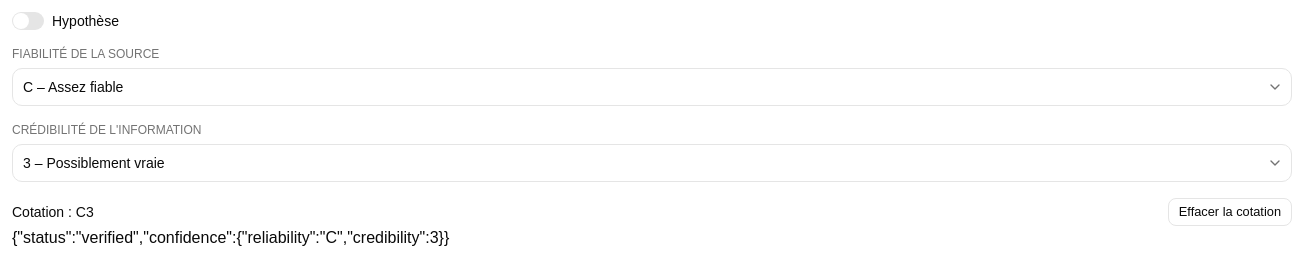
Scenario: AssessmentFields › clears the grade
Step 1. Click the button "Effacer la cotation" → click(1230, 212), box [1168, 198, 1292, 226]
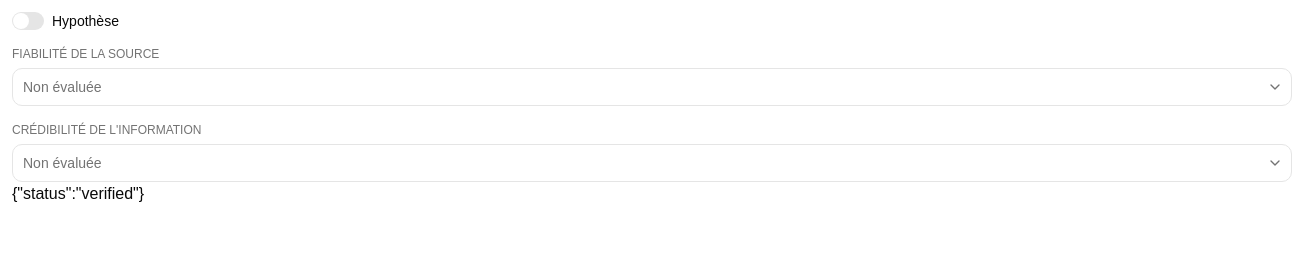
Now the button "Effacer la cotation" is gone
